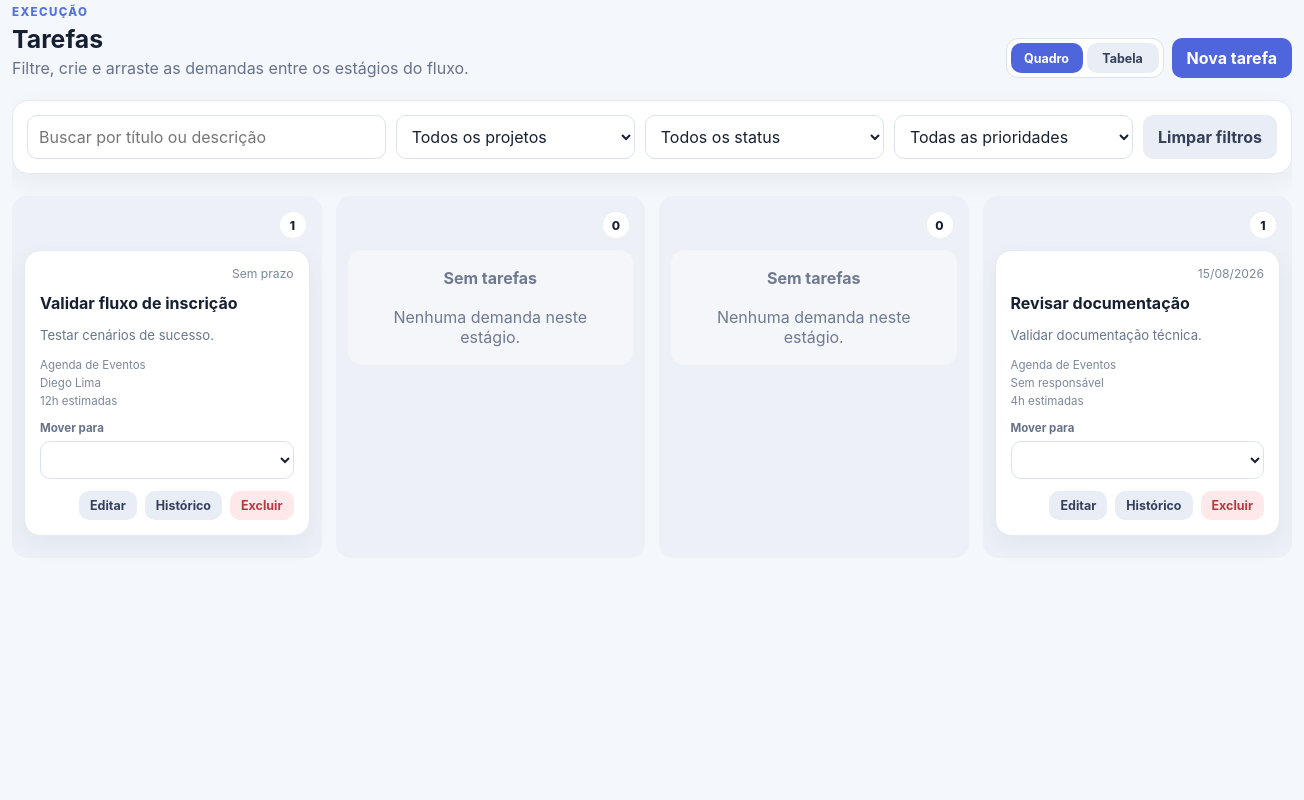
it: TasksPage › clears all filters
In the field with placeholder "Buscar por título ou descrição": (206, 137) [27,115,386,159], type "documentação"
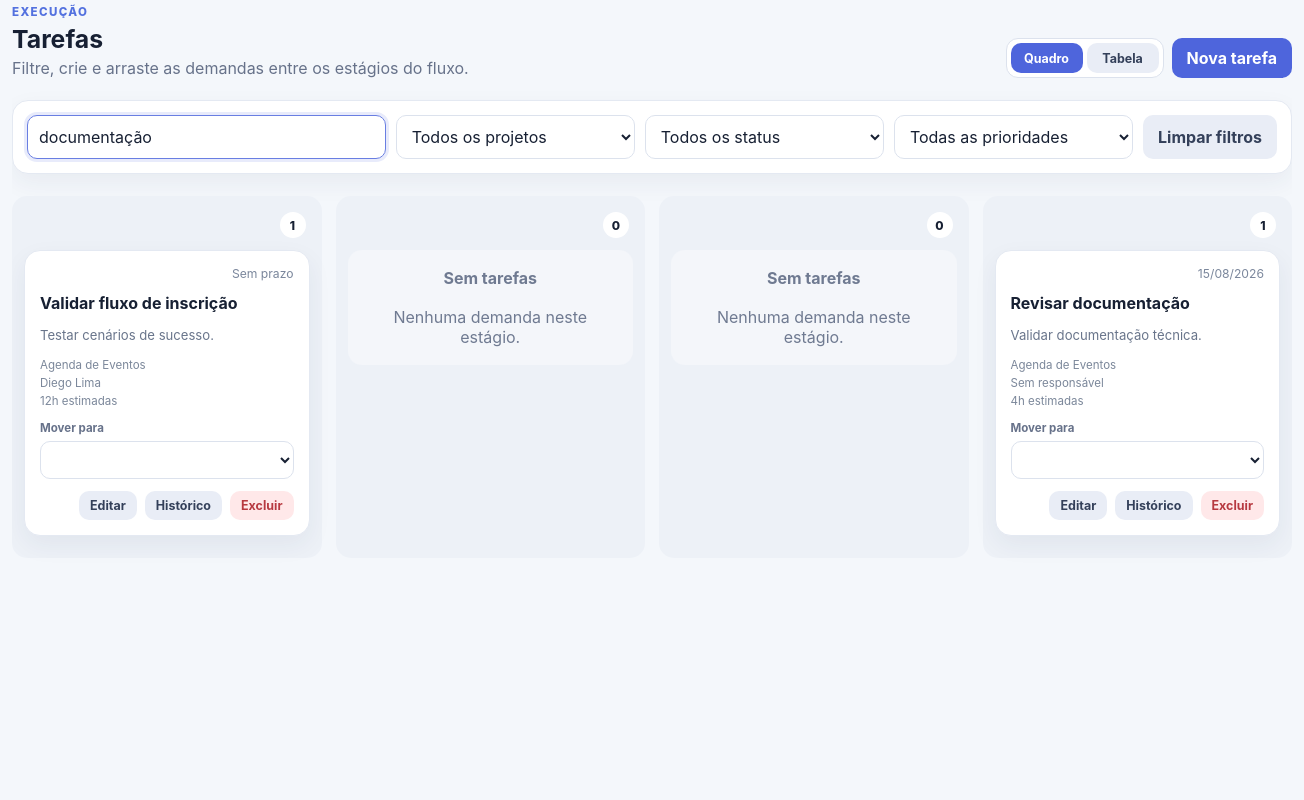
Click the button "Limpar filtros": (1210, 137) [1143,115,1277,159]
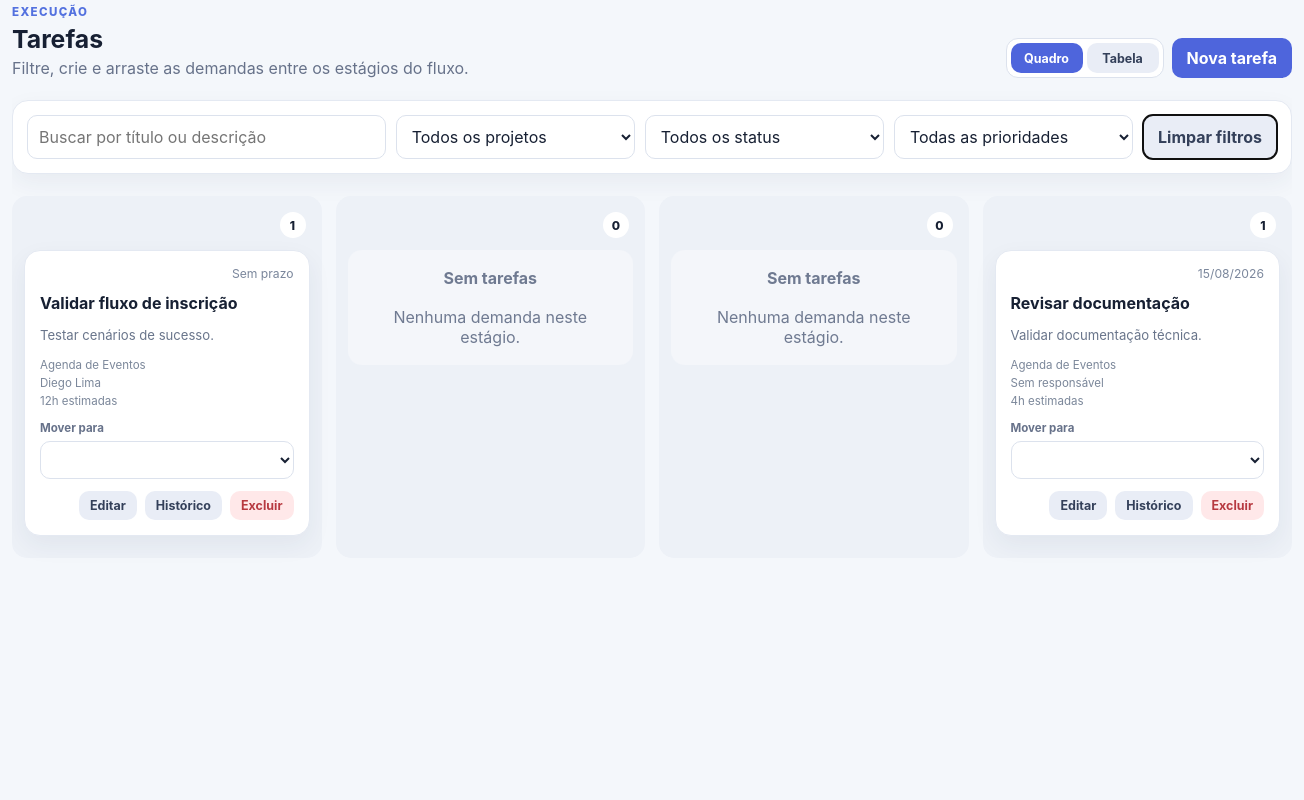
Expected: the field with placeholder "Buscar por título ou descrição" is empty, [27,115,386,159]
